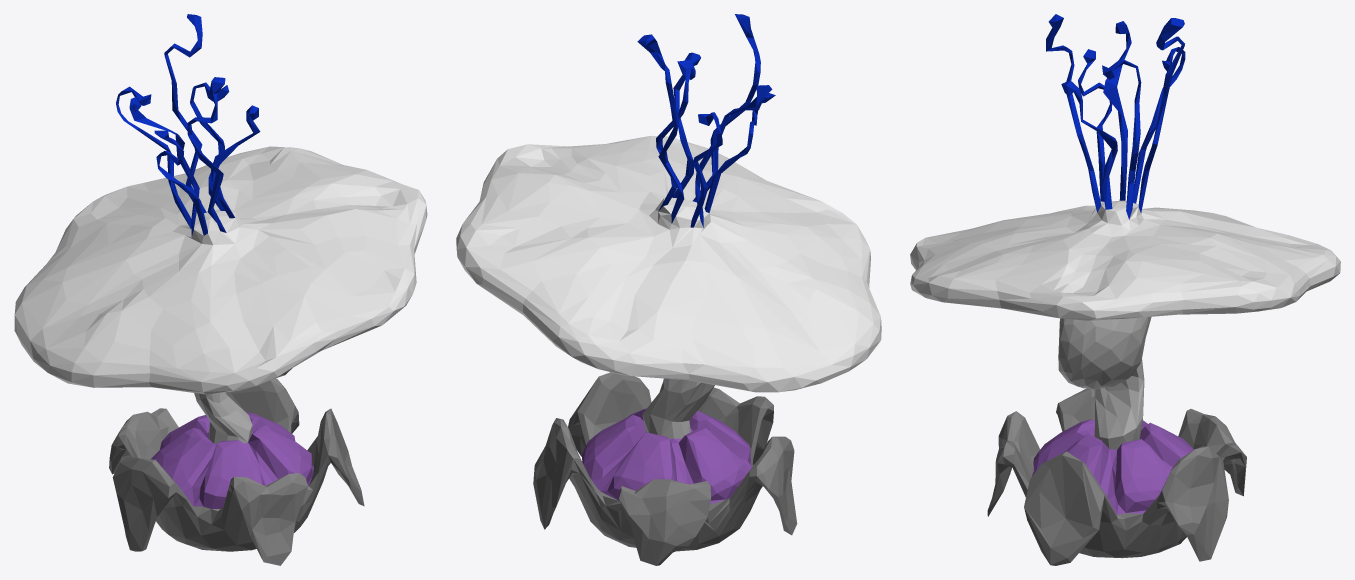
The model's file is Flor Trompa Alegre UV LP.fbx.
3 views of the same model, side by side, from view 1: azimuth 30°, elevation 25°; view 2: azimuth 150°, elevation 25°; view 3: azimuth 270°, elevation 25° (orthographic). The views are drawn at different scales.
Visible parts, largest first — view 1: Flor_Trompa_Maneira:Group43272; view 2: Flor_Trompa_Maneira:Group43272; view 3: Flor_Trompa_Maneira:Group43272.
Part boxes in pixels (<box>): Flor_Trompa_Maneira:Group43272: <box>14,14,427,565</box>; Flor_Trompa_Maneira:Group43272: <box>456,14,881,565</box>; Flor_Trompa_Maneira:Group43272: <box>910,14,1340,565</box>.
Bounding box in the file's own units: 4.95 × 6.43 × 4.91.
